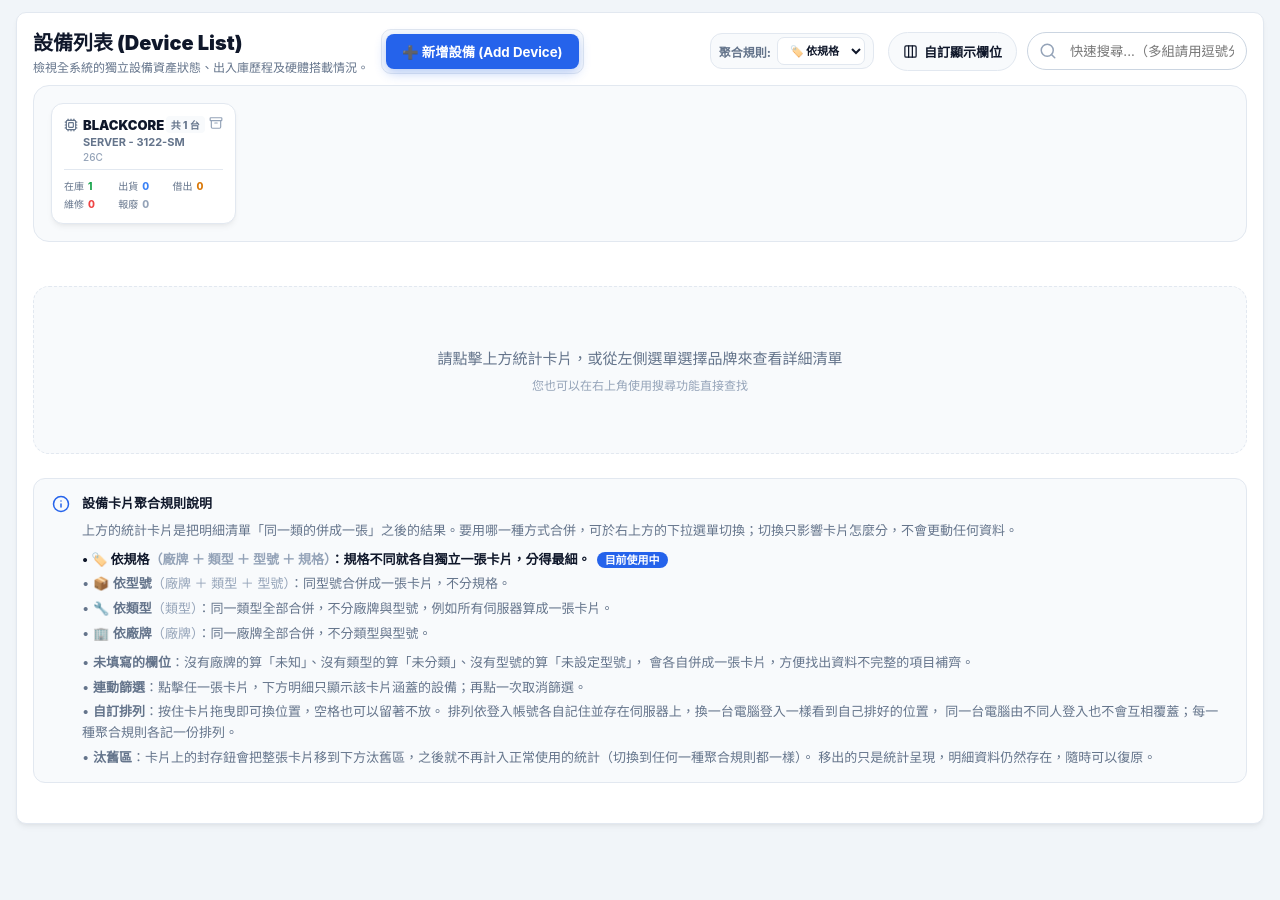
Test: 設備編輯：搭載硬體清單即時篩選 › 輸入序號的一部分只留下符合的那一筆
In the field with placeholder "快速搜尋...（多組請用逗號分隔）": (1137, 51) [1027,32,1247,70], type "DEV-1"
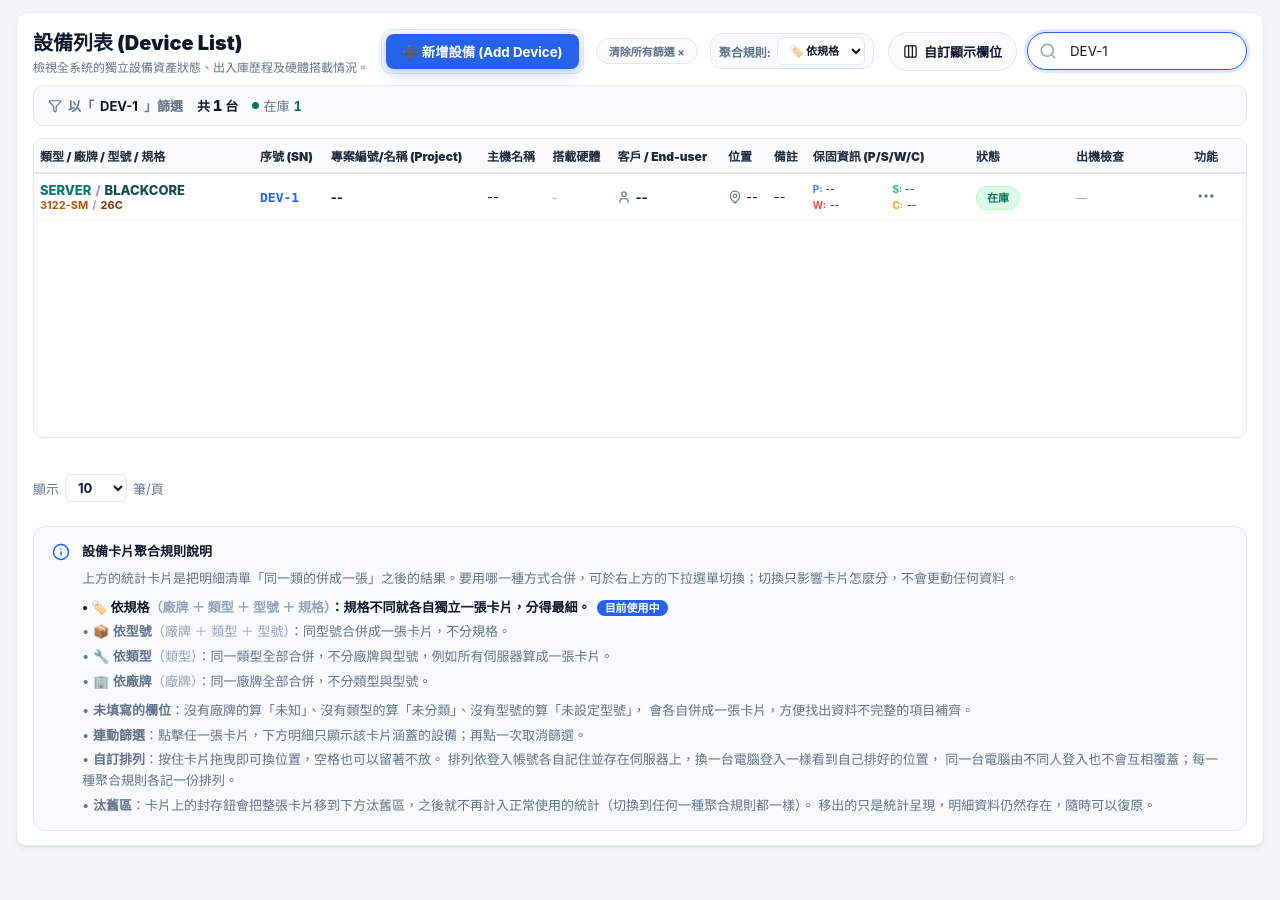
Result: the text "DEV-1" is shown at [254,173,325,220]
Click the 4th button: (1206, 197) [1196,186,1216,208]
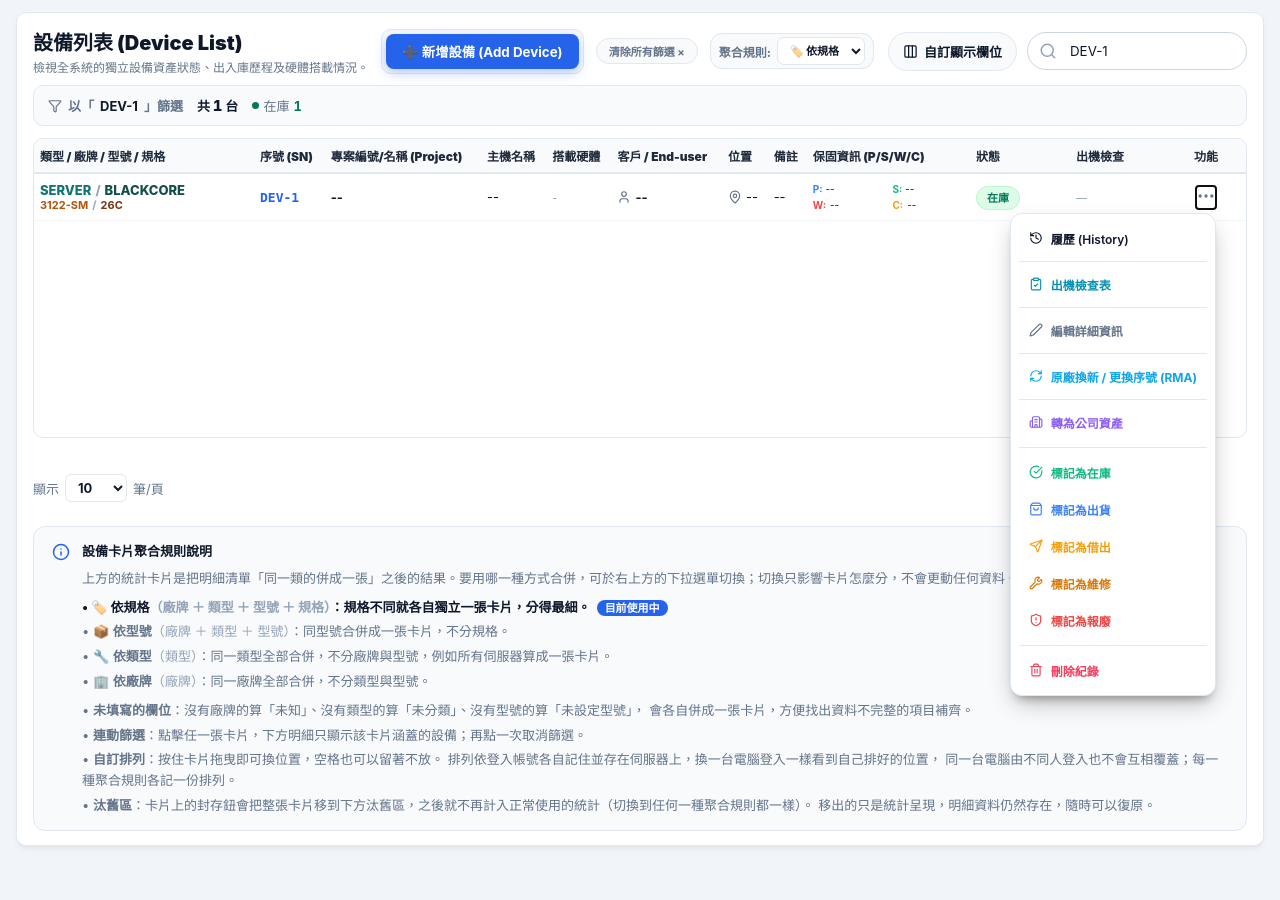
Click the button "編輯詳細資訊": (1113, 330) [1019,314,1207,346]
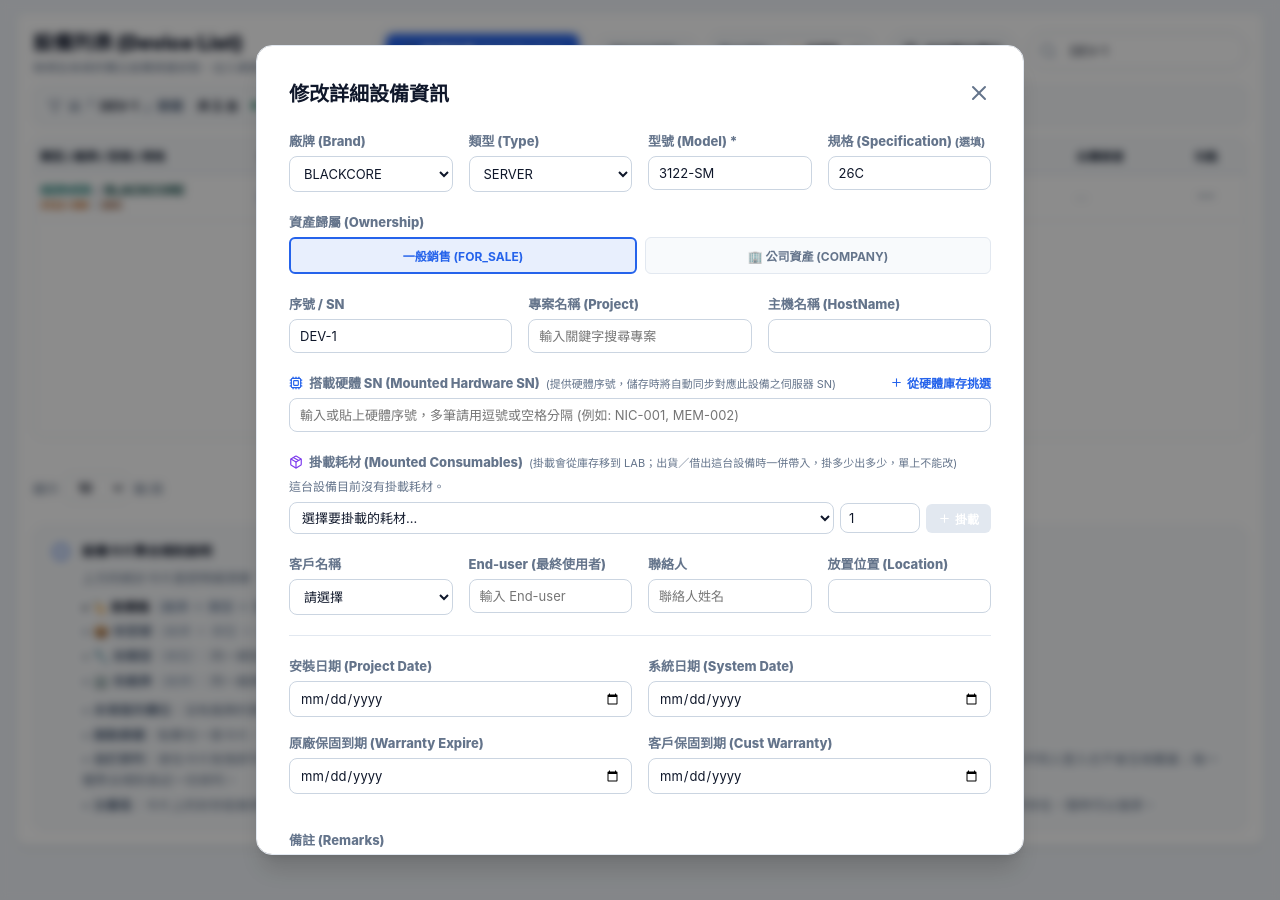
In the field with placeholder "輸入或貼上硬體序號，多筆請用逗號或空格分隔 (例如: NIC-001, MEM-002)": (640, 415) [289,398,991,432], type "U5M16V"
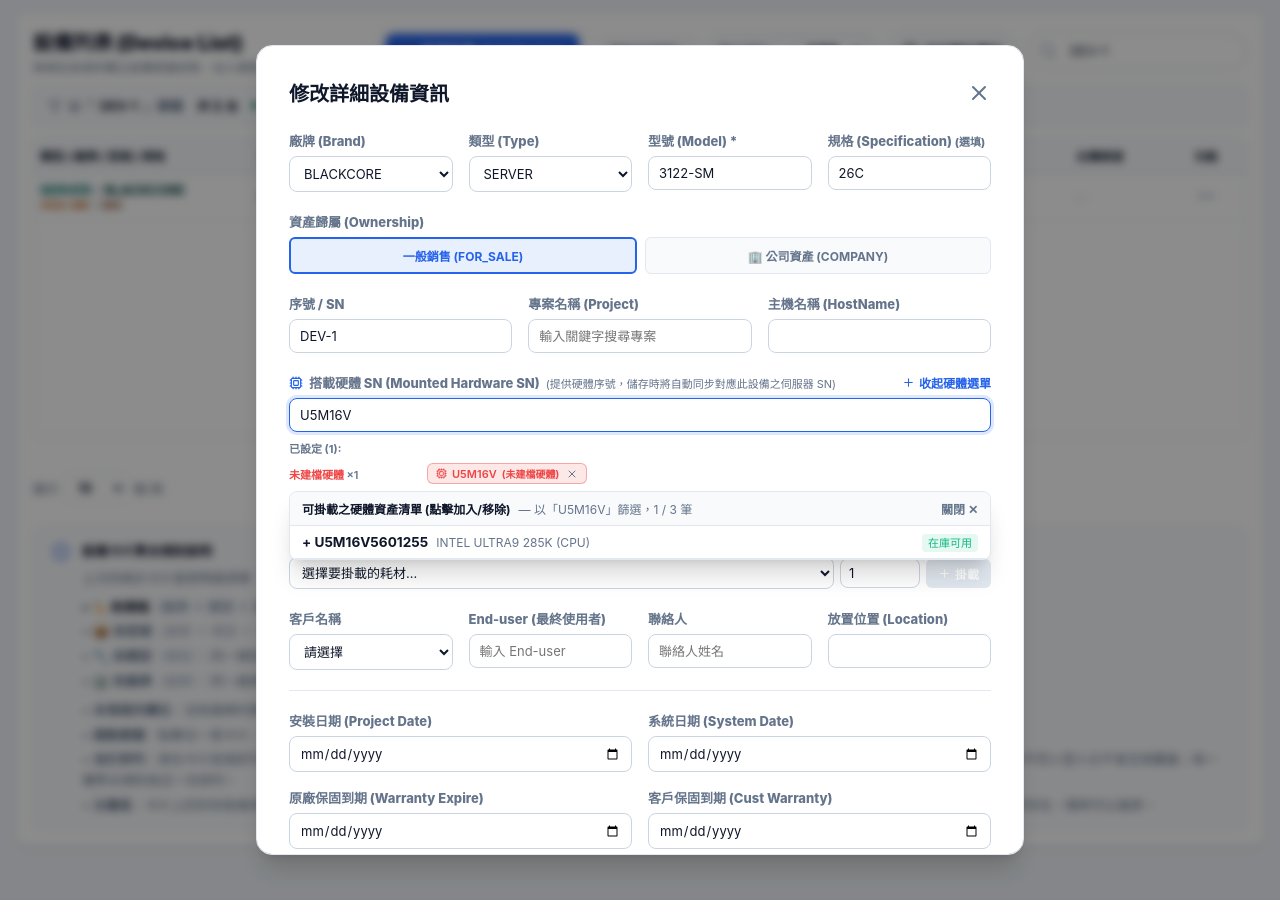
Result: the text "+ U5M16V5601255" is shown at [302,534,428,550]
Result: the text "STG10005Y26" is gone
Result: the text "STG10015Y26" is gone
